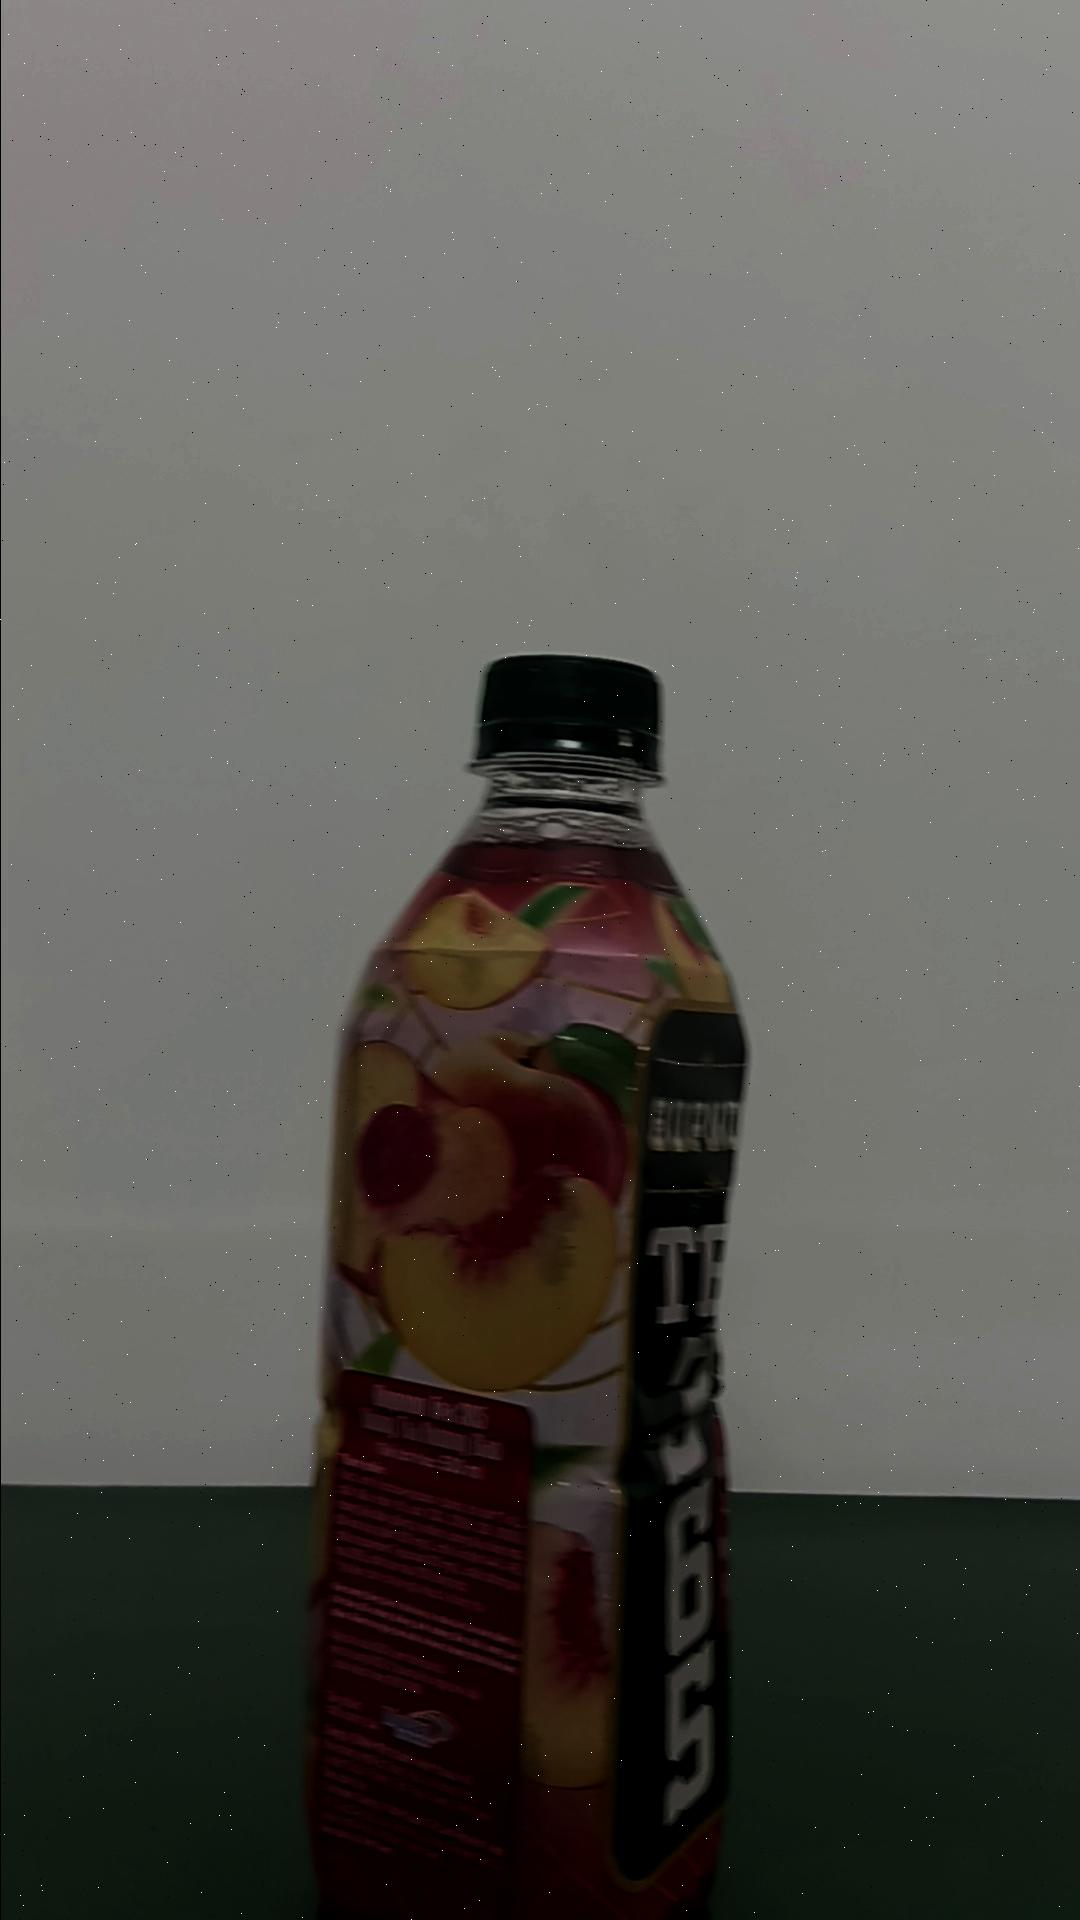loi meo sp: (302, 651, 750, 1915)
